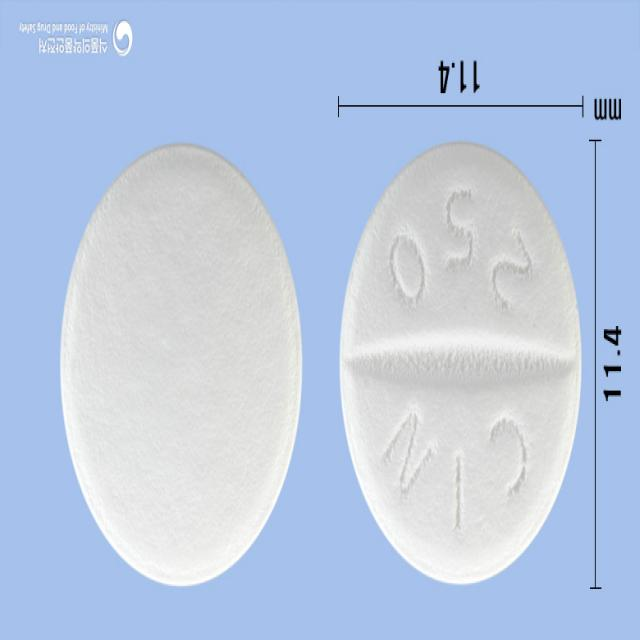Amoclan - Myungmoon: (59, 143, 303, 589), (338, 142, 582, 587)
